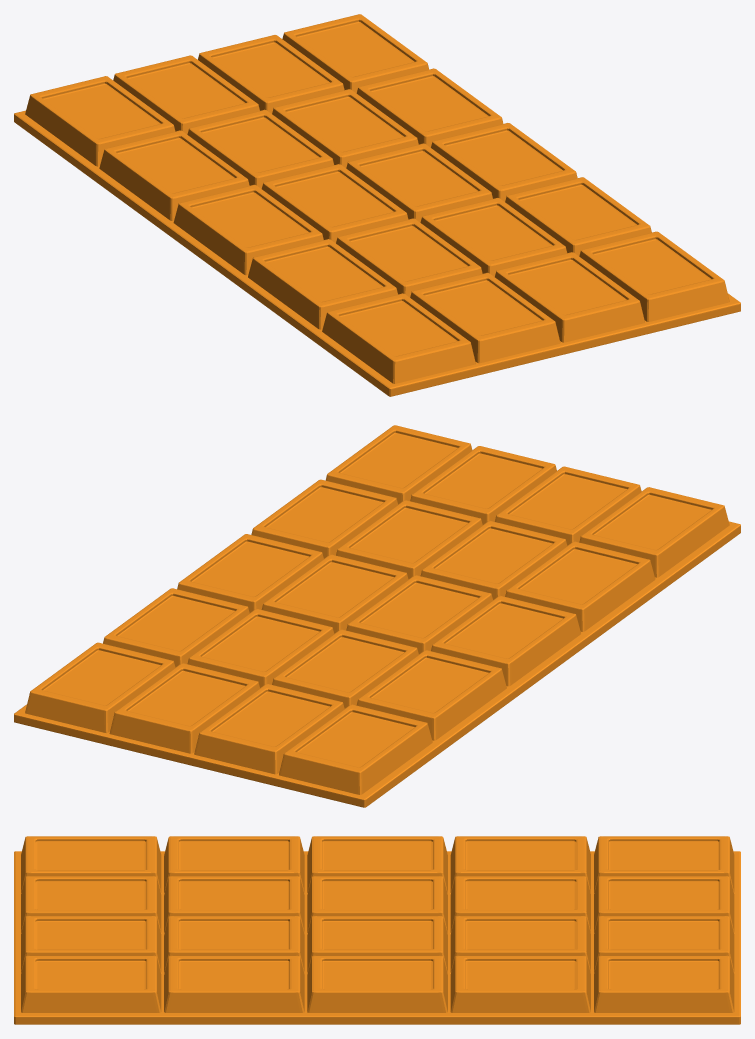
The model's file is karamel çikolata.fbx.
The picture shows the model from 3 angles, top to bottom: view 1: azimuth 30°, elevation 25°; view 2: azimuth 150°, elevation 25°; view 3: azimuth 270°, elevation 25°; orthographic projection. The views are drawn at different scales.
Visible parts, largest first — view 1: dark brown; view 2: dark brown; view 3: dark brown.
Boxes of the visible parts, left/top/right/bottom form: dark brown: left=14, top=14, right=740, bottom=396; dark brown: left=14, top=425, right=740, bottom=807; dark brown: left=14, top=836, right=740, bottom=1024.
Bounding box in the file's own units: 416 × 33.09 × 771.
